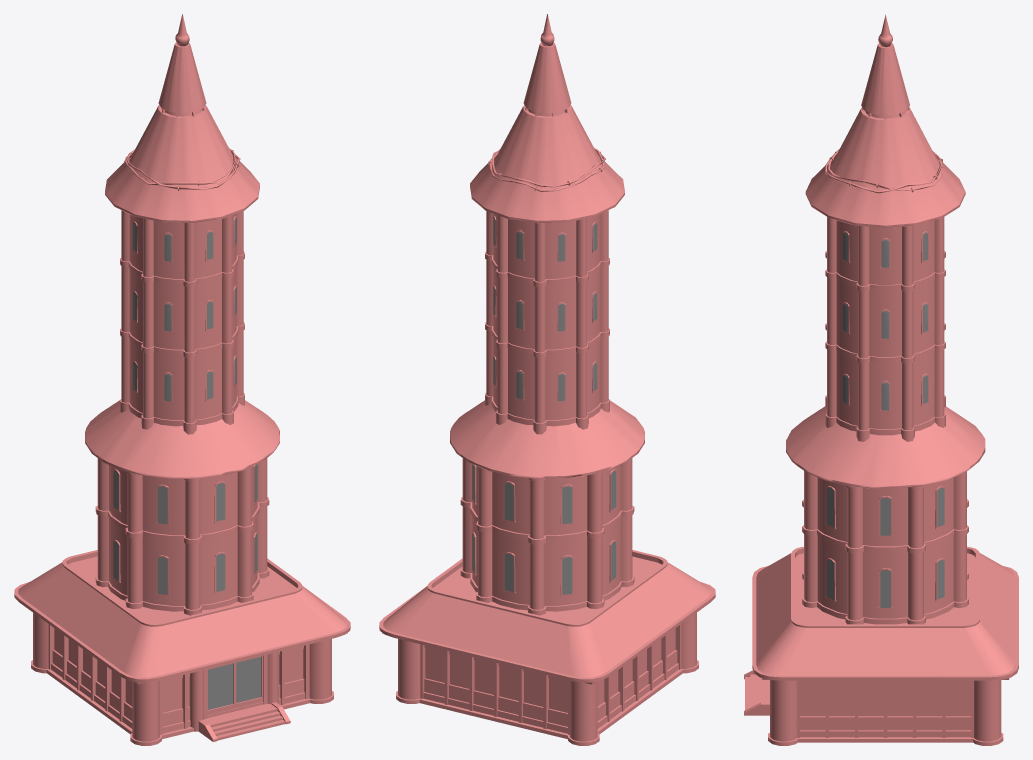
The model's file is SM_ENV_LKNVLD_CommonBuilding_TowerB.gltf.
The picture shows the model from 3 angles, left to right: view 1: azimuth 30°, elevation 25°; view 2: azimuth 150°, elevation 25°; view 3: azimuth 270°, elevation 25°; orthographic projection. The views are drawn at different scales.
Visible parts, largest first — view 1: SM_ENV_LKNVLD_CommonBuilding_TowerB; view 2: SM_ENV_LKNVLD_CommonBuilding_TowerB; view 3: SM_ENV_LKNVLD_CommonBuilding_TowerB.
Boxes of the visible parts, x1,y1,x2,y2 form: SM_ENV_LKNVLD_CommonBuilding_TowerB: [14, 14, 350, 745]; SM_ENV_LKNVLD_CommonBuilding_TowerB: [379, 14, 715, 745]; SM_ENV_LKNVLD_CommonBuilding_TowerB: [744, 14, 1018, 745].
Bounding box in the file's own units: 20.1 × 56.73 × 20.72.
